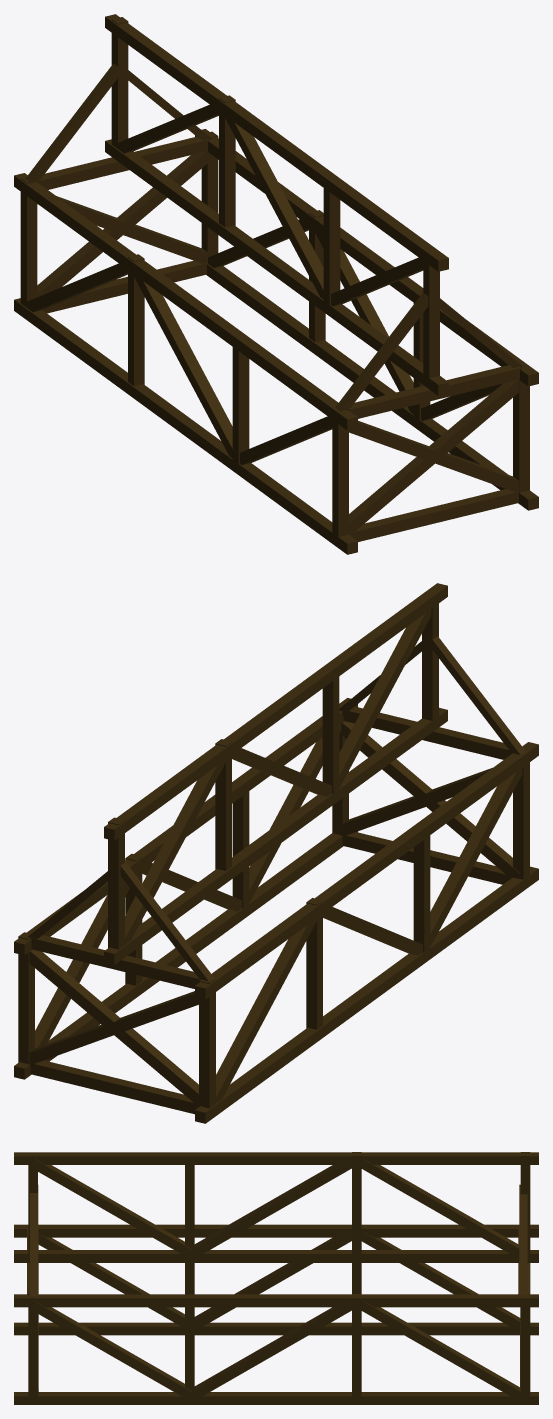
Rendered from krovna kostrukcija 3x3.FBX.
3 views of the same model, one above another, from view 1: azimuth 30°, elevation 25°; view 2: azimuth 150°, elevation 25°; view 3: azimuth 270°, elevation 25° (orthographic). The views are drawn at different scales.
Visible parts, largest first — view 1: Box575; view 2: Box575; view 3: Box575.
Part boxes in pixels (left/top/right/bottom): Box575: left=14, top=14, right=538, bottom=554; Box575: left=14, top=583, right=538, bottom=1123; Box575: left=14, top=1152, right=538, bottom=1404.
Bounding box in the file's own units: 181 × 245 × 543.
